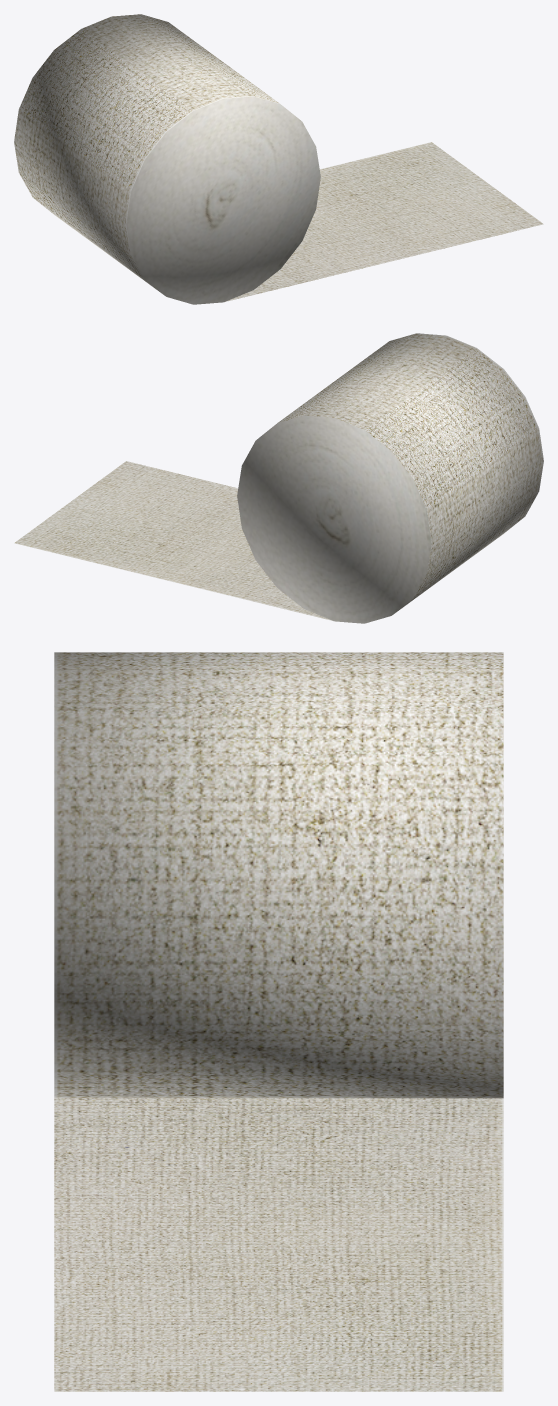
File: gauze.glb
The picture shows the model from 3 angles, top to bottom: view 1: azimuth 30°, elevation 25°; view 2: azimuth 150°, elevation 25°; view 3: azimuth 270°, elevation 25°; orthographic projection. The views are drawn at different scales.
Parts seen in each view (by area): view 1: bandagem, bandagem.001; view 2: bandagem, bandagem.001; view 3: bandagem, bandagem.001.
Boxes of the visible parts, bbox=[...] form: bandagem: bbox=[14, 14, 320, 304]; bandagem.001: bbox=[225, 142, 543, 301]; bandagem: bbox=[237, 333, 543, 623]; bandagem.001: bbox=[14, 461, 332, 620]; bandagem: bbox=[54, 652, 503, 1098]; bandagem.001: bbox=[54, 1098, 503, 1391].
Bounding box in the file's own units: 4.29 × 2 × 2.
2 materials, 2 textured.
